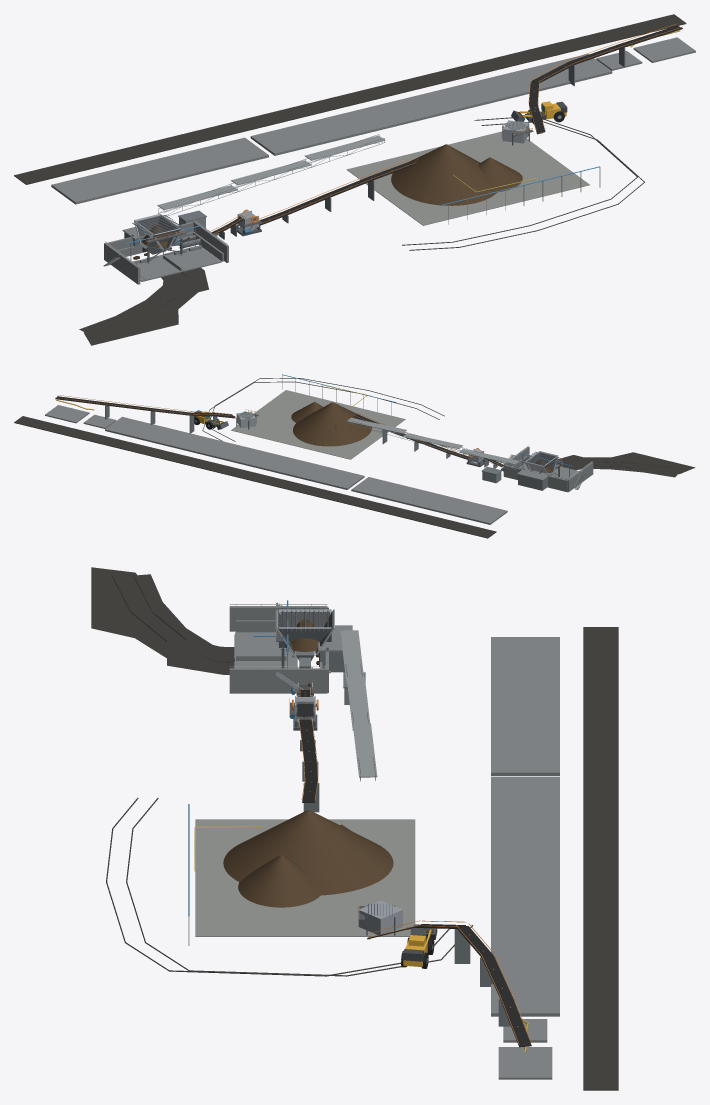
Rendered from PULPA_LAB_V50_FRONTEND_STOCKPILE.glb.
3 renders of one model, top to bottom at view 1: azimuth 30°, elevation 25°; view 2: azimuth 150°, elevation 25°; view 3: azimuth 270°, elevation 25°, orthographic. The views are drawn at different scales.
Parts seen in each view (by area): view 1: V49_PROCESS_ACCESS_ROAD, STOCKPILE-RECLAIM_PAD, V49_PAD_LEACH_CIP, STOCKPILE-RECLAIM, V49_PAD_RECOVERY, V22_ROM_JUNCTION_LOW, V49_PAD_CLASS_PUMP, V22_ROM_JUNCTION_UPPER, V20_ROM_APPROACH, V49_PAD_MILL, V22_ROM_WING_W, V22_ROM_LANE_E (+8 smaller); view 2: V49_PROCESS_ACCESS_ROAD, STOCKPILE-RECLAIM_PAD, V49_PAD_LEACH_CIP, V49_PAD_RECOVERY, STOCKPILE-RECLAIM, V49_PAD_CLASS_PUMP, V22_ROM_JUNCTION_LOW, V20_ROM_APPROACH, V49_PAD_MILL, V22_ROM_HEADWALL, V22_ROM_JUNCTION_UPPER, V22_ROM_WING_W (+9 smaller); view 3: V49_PROCESS_ACCESS_ROAD, STOCKPILE-RECLAIM_PAD, V49_PAD_LEACH_CIP, STOCKPILE-RECLAIM, V49_PAD_RECOVERY, V22_ROM_JUNCTION_LOW, V49_PAD_CLASS_PUMP, V22_ROM_WING_E, V22_ROM_JUNCTION_UPPER, V20_ROM_APPROACH, V49_PAD_MILL, STOCKPILE-RECLAIM_HOPPER (+6 smaller).
Part boxes in pixels (box(x1,y1,x2,y2)): V49_PROCESS_ACCESS_ROAD: box(14, 14, 686, 184); STOCKPILE-RECLAIM_PAD: box(346, 131, 589, 225); V49_PAD_LEACH_CIP: box(250, 73, 539, 155); STOCKPILE-RECLAIM: box(391, 120, 532, 205); V49_PAD_RECOVERY: box(51, 137, 268, 204); V22_ROM_JUNCTION_LOW: box(84, 309, 178, 345); V49_PAD_CLASS_PUMP: box(509, 54, 612, 91); V22_ROM_JUNCTION_UPPER: box(161, 267, 208, 300); V20_ROM_APPROACH: box(79, 281, 197, 331); V49_PAD_MILL: box(633, 37, 695, 62); V22_ROM_WING_W: box(104, 243, 140, 284); V22_ROM_LANE_E: box(167, 249, 217, 271); V49_PROCESS_ACCESS_ROAD: box(14, 416, 496, 538); STOCKPILE-RECLAIM_PAD: box(231, 390, 405, 459); V49_PAD_LEACH_CIP: box(156, 430, 364, 489); V49_PAD_RECOVERY: box(351, 477, 507, 524); STOCKPILE-RECLAIM: box(238, 402, 372, 446); V49_PAD_CLASS_PUMP: box(105, 416, 178, 443); V22_ROM_JUNCTION_LOW: box(612, 452, 695, 474); V20_ROM_APPROACH: box(577, 457, 677, 477); V49_PAD_MILL: box(45, 405, 89, 423); V22_ROM_HEADWALL: box(504, 465, 567, 492); V22_ROM_JUNCTION_UPPER: box(556, 455, 605, 469); V22_ROM_WING_W: box(567, 462, 593, 491); V49_PROCESS_ACCESS_ROAD: box(583, 627, 618, 1090); STOCKPILE-RECLAIM_PAD: box(195, 819, 415, 936); V49_PAD_LEACH_CIP: box(491, 776, 559, 962); STOCKPILE-RECLAIM: box(223, 810, 393, 918); V49_PAD_RECOVERY: box(491, 637, 559, 775); V22_ROM_JUNCTION_LOW: box(91, 567, 160, 638); V49_PAD_CLASS_PUMP: box(491, 957, 559, 1016); V22_ROM_WING_E: box(229, 668, 327, 693); V22_ROM_JUNCTION_UPPER: box(167, 634, 234, 674); V20_ROM_APPROACH: box(135, 574, 219, 657); V49_PAD_MILL: box(498, 1047, 552, 1079); STOCKPILE-RECLAIM_HOPPER: box(358, 900, 402, 934).
Bounding box in the file's own units: 202 × 11.49 × 83.8.
